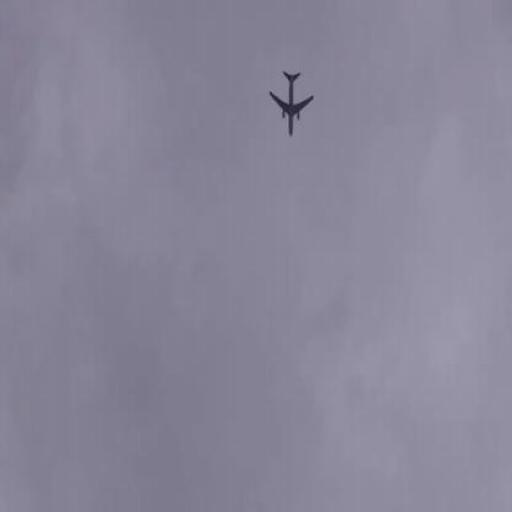aircraft: (271, 65, 315, 137)
